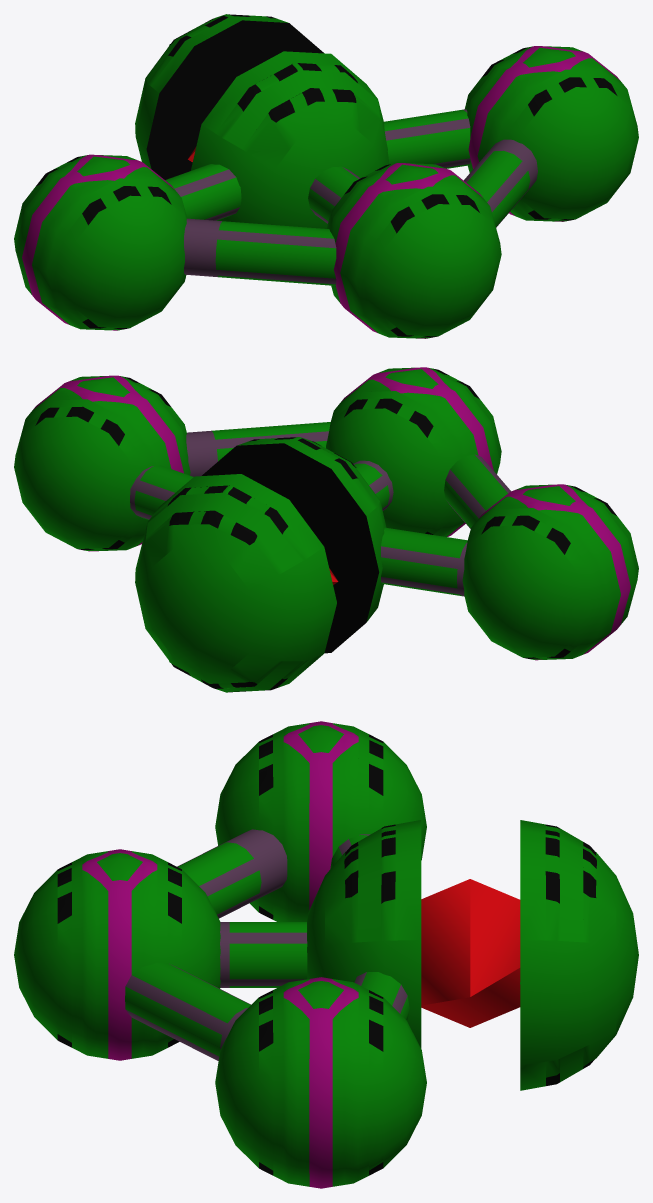
File: half-station.dae
The picture shows the model from 3 angles, top to bottom: view 1: azimuth 30°, elevation 25°; view 2: azimuth 150°, elevation 25°; view 3: azimuth 270°, elevation 25°; orthographic projection. The views are drawn at different scales.
Parts seen in each view (by area): view 1: FBXASC036dummy_node, meshId1_name, meshId6_name, meshId2_name; view 2: FBXASC036dummy_node, meshId1_name, meshId2_name, meshId6_name; view 3: FBXASC036dummy_node, meshId2_name, meshId3_name, meshId6_name, meshId1_name.
Boxes of the visible parts, <box> form: FBXASC036dummy_node: <box>14,14,638,338</box>; meshId1_name: <box>36,14,617,337</box>; meshId6_name: <box>174,109,537,284</box>; meshId2_name: <box>22,46,620,338</box>; FBXASC036dummy_node: <box>14,367,638,692</box>; meshId1_name: <box>35,368,616,692</box>; meshId2_name: <box>33,367,630,660</box>; meshId6_name: <box>130,430,511,596</box>; FBXASC036dummy_node: <box>14,723,638,1186</box>; meshId2_name: <box>82,721,358,1188</box>; meshId3_name: <box>421,879,520,1027</box>; meshId6_name: <box>125,829,407,1060</box>; meshId1_name: <box>57,734,596,1175</box>.
Bounding box in the file's own units: 262 × 88.35 × 200.
